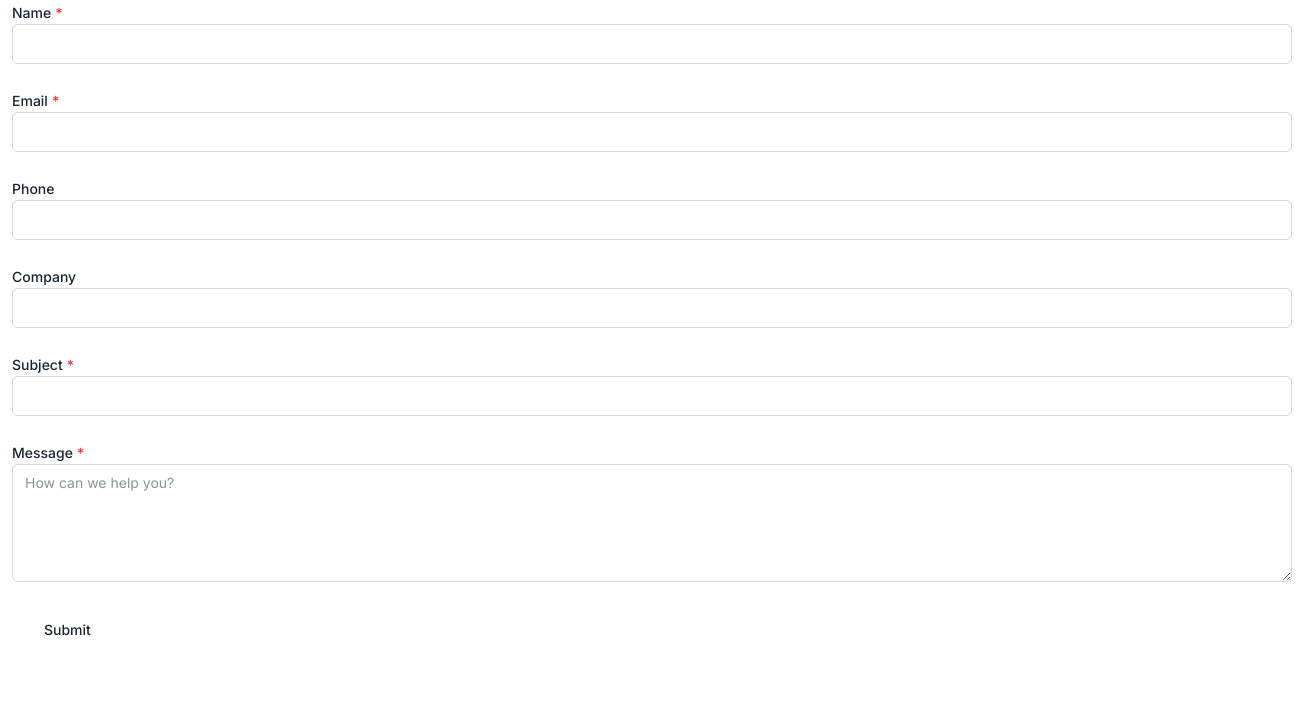
Test: ContactForm › Validation › shows validation error for invalid email
Type "invalid-email" into the field labelled "Email*" at (652, 132), box [12,112,1292,152]
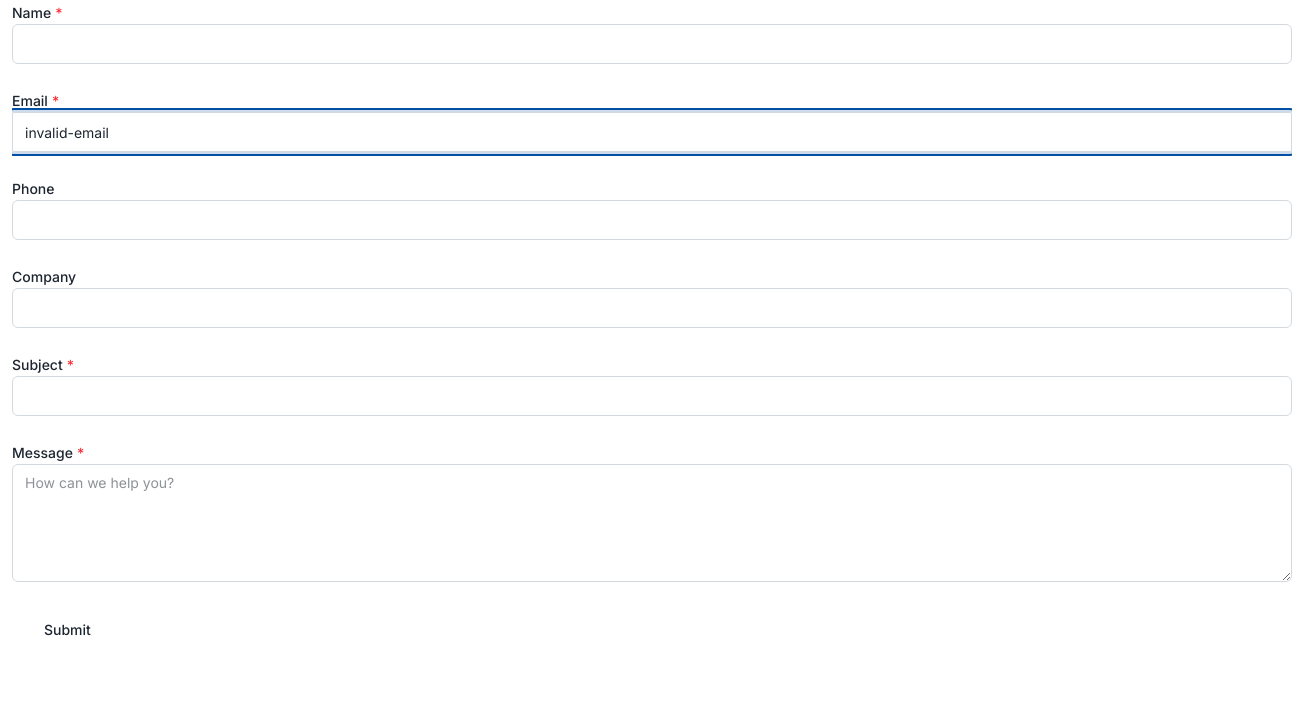
Press Tab
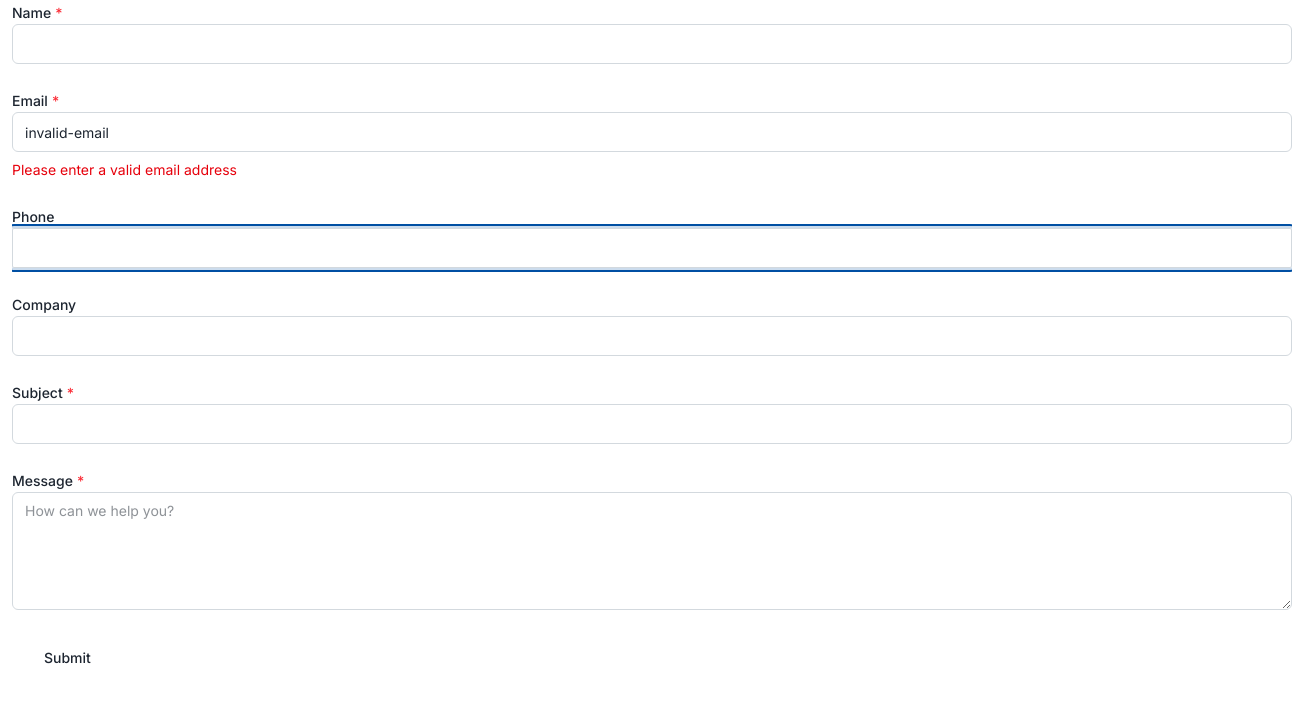
Expected: the text "Please enter a valid email address" is shown, [12,161,237,178]
